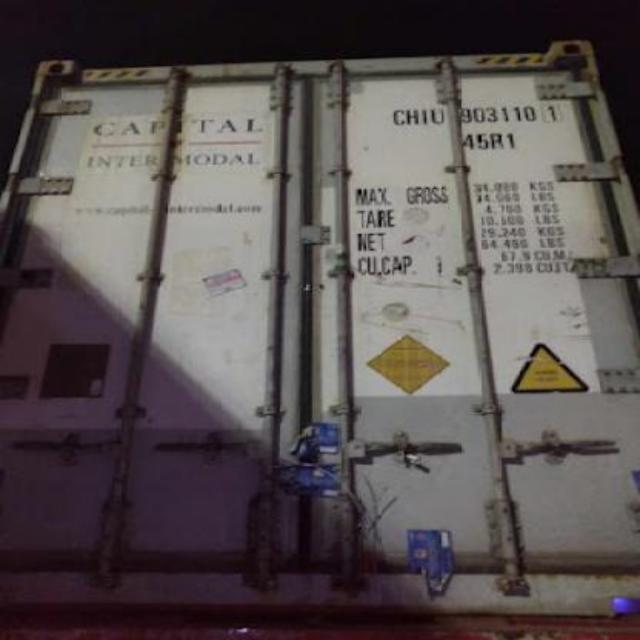0: (522, 98, 536, 128), (472, 98, 484, 125)
1: (542, 99, 564, 129), (512, 96, 522, 126), (498, 99, 510, 123)
3: (482, 96, 498, 126)
9: (458, 100, 472, 128)
C: (390, 102, 406, 126)
H: (404, 102, 418, 130)
I: (418, 100, 430, 128)
U: (430, 105, 448, 131)
